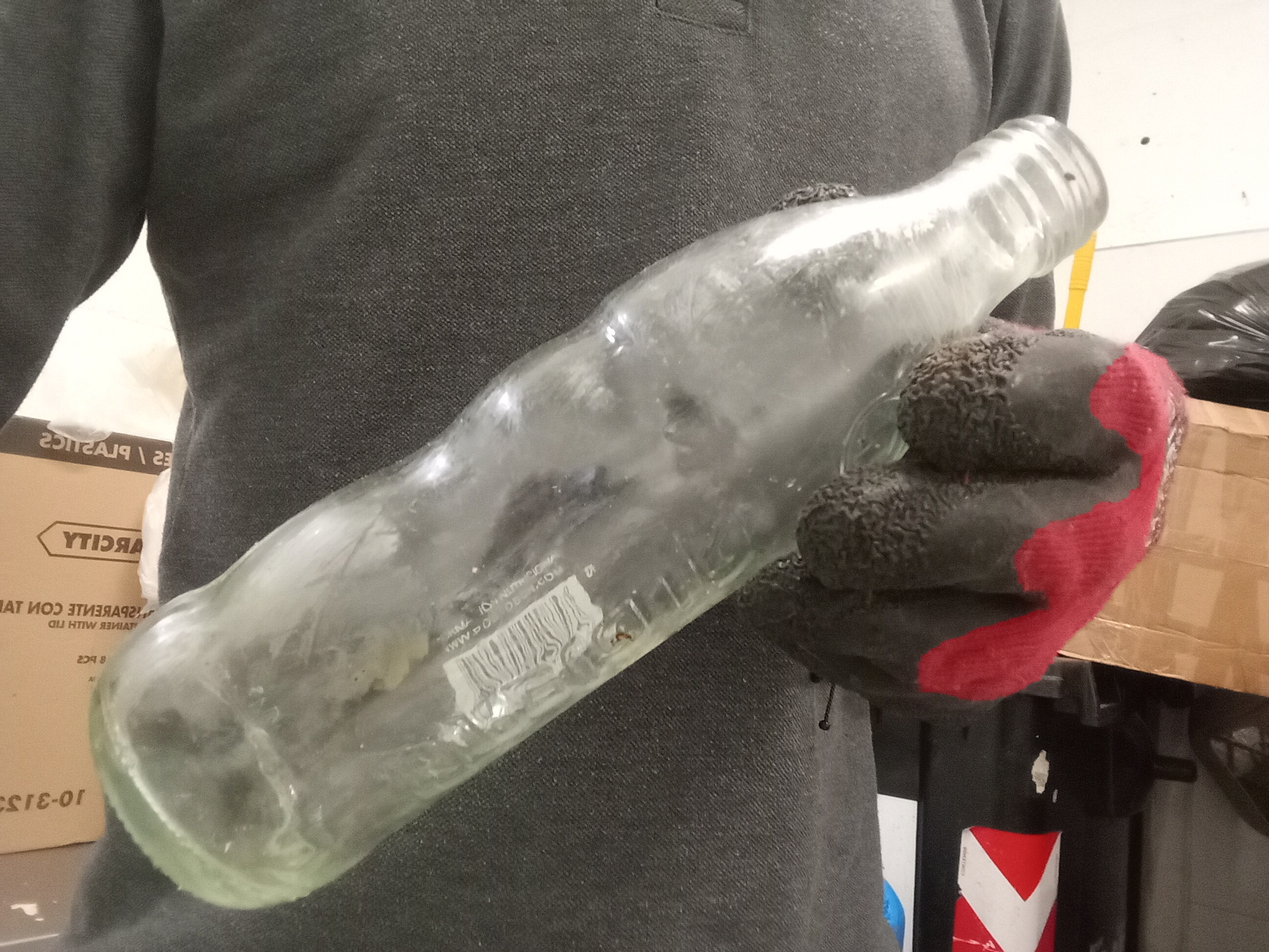Vidrio: (88, 110, 1111, 912)
